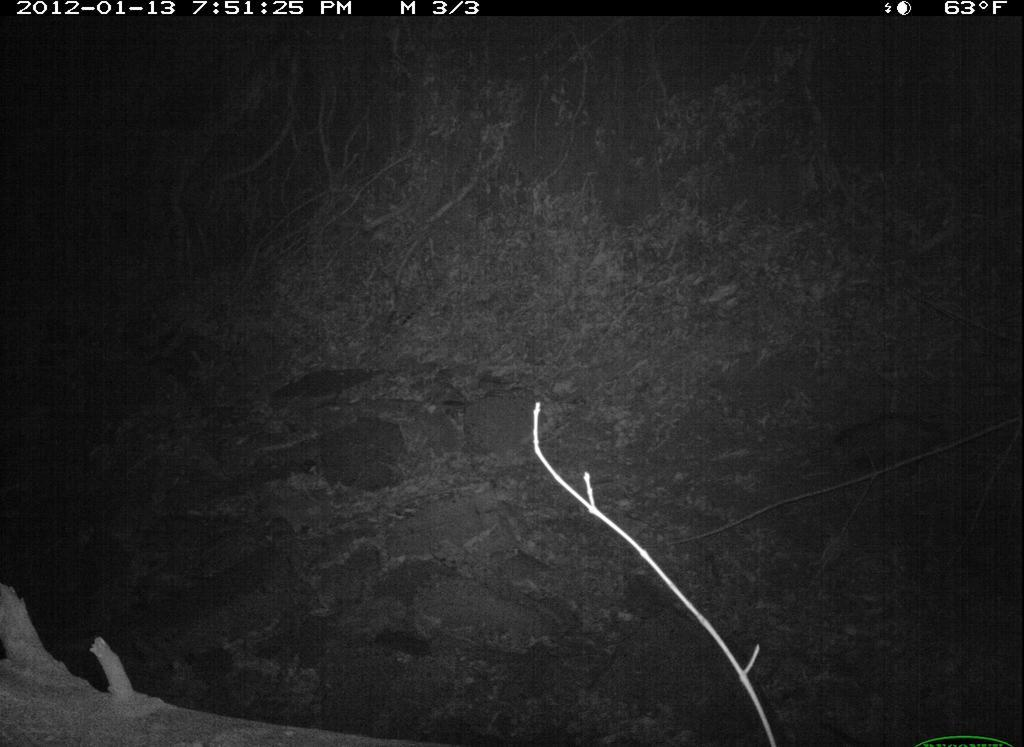opossum: (816, 408, 972, 492)
